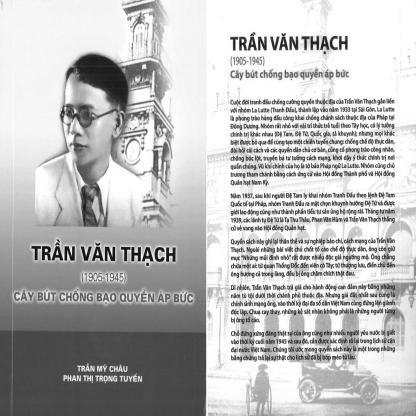car: (292, 353, 393, 410)
